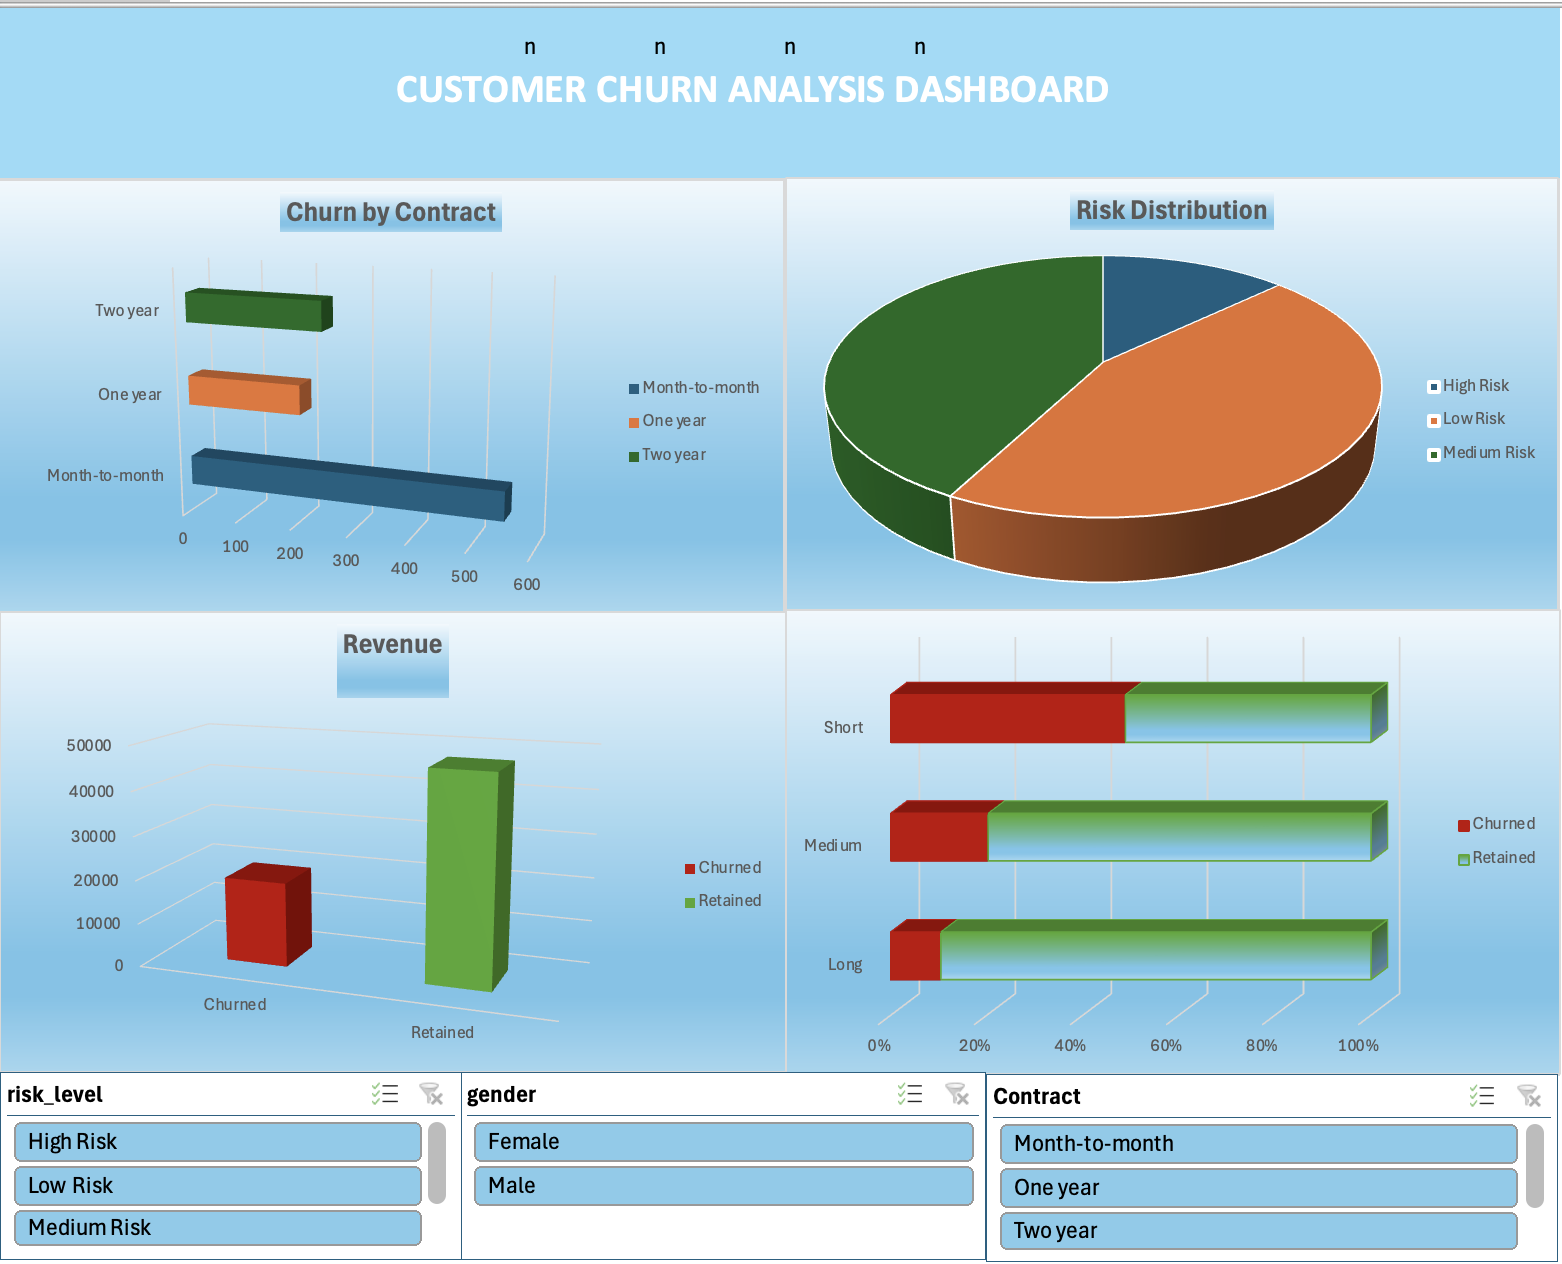

The dashboard page shown, as its layout file describes it:
{"tool":"tableau","page":{"name":"Dashboard ","canvas":[1000,1000],"units":"permille","ordinal":0},"visuals":[{"type":"title","box":[6.5,10.4,742.1,58.6]},{"type":"legend","title":"Churn by Contract","param":"[federated.1j3duu017arbrh1dxwnko1el29qr].[none:Churn:nk]","box":[748.6,10.4,244.9,101.6]},{"type":"worksheet","title":"Churn by Contract","mark":"Automatic","rows":["Contract"],"cols":["Calculation_4336122073761480704"],"box":[6.5,69,370.8,920.6]},{"type":"worksheet","title":"Churn by Tenure","mark":"Automatic","rows":["Calculation_4336122073761927170"],"cols":["Calculation_4336122073761480704"],"box":[377.3,69,371.3,920.6]},{"type":"filter","title":"Churn by Contract","param":"[federated.1j3duu017arbrh1dxwnko1el29qr].[none:Contract:nk]","box":[748.6,112,244.9,143.2]},{"type":"filter","title":"Churn by Contract","param":"[federated.1j3duu017arbrh1dxwnko1el29qr].[none:gender:nk]","box":[748.6,255.2,244.9,127.6]},{"type":"worksheet","title":"Revenue by Churn","mark":"Automatic","rows":["MonthlyCharges"],"cols":["Churn"],"box":[28.8,300.8,332.8,333.3]},{"type":"worksheet","title":"RISK SEGMENTATION","mark":"Automatic","rows":["risk_level"],"cols":["customerID"],"box":[385.7,303.4,332.8,325.5]},{"type":"filter","title":"Churn by Contract","param":"[federated.1j3duu017arbrh1dxwnko1el29qr].[none:risk_level:nk]","box":[748.6,382.8,244.9,152.3]},{"type":"worksheet","title":"Customer Segment Analysis","mark":"Automatic","rows":["Calculation_4336122073762050051"],"cols":["Calculation_4336122073761480704"],"box":[7.8,699.2,724.7,276]}]}

Visuals, with their boxes on the dashboard's canvas, which has no fixed pixel size, in thousandths of its width and height (x1, y1, x2, y2). These are canvas units, not pixel positions in the 1562x1264 screenshot, which may show the page scaled, cropped or inside an application window:
title: l=6, t=10, r=749, b=69
"Churn by Contract" legend: l=749, t=10, r=994, b=112
"Churn by Contract" worksheet: l=6, t=69, r=377, b=990
"Churn by Tenure" worksheet: l=377, t=69, r=749, b=990
"Churn by Contract" filter: l=749, t=112, r=994, b=255
"Churn by Contract" filter: l=749, t=255, r=994, b=383
"Revenue by Churn" worksheet: l=29, t=301, r=362, b=634
"RISK SEGMENTATION" worksheet: l=386, t=303, r=718, b=629
"Churn by Contract" filter: l=749, t=383, r=994, b=535
"Customer Segment Analysis" worksheet: l=8, t=699, r=732, b=975
